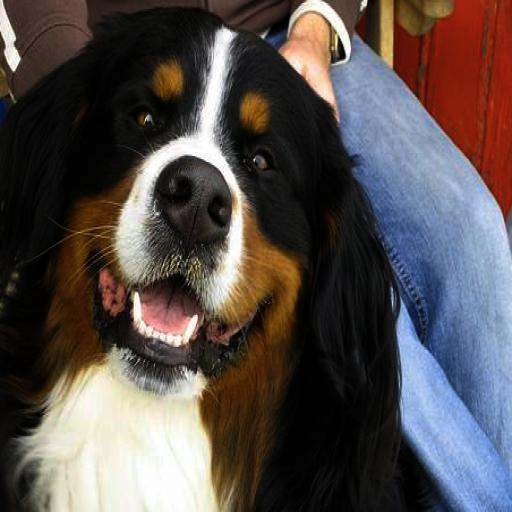dog_face: (37, 14, 346, 392)
